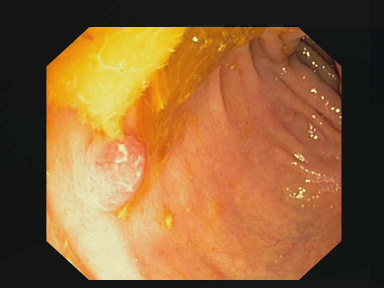polyp: (85, 132, 143, 211)
